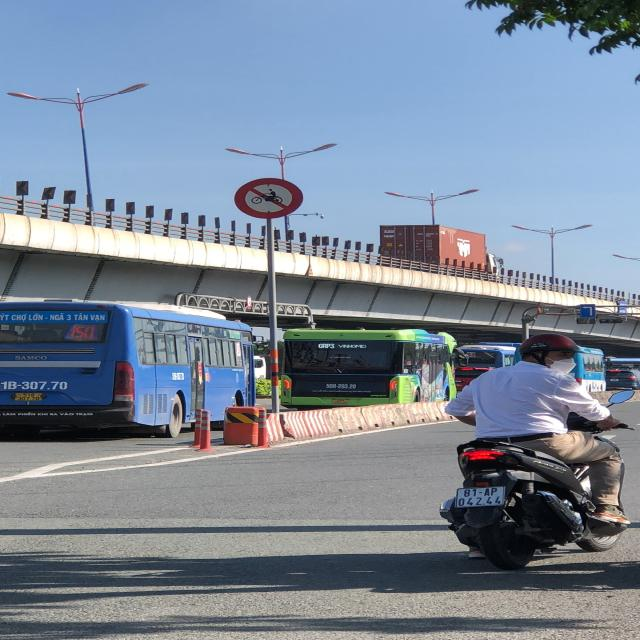Bien bao cam xe may: (232, 176, 312, 219)
